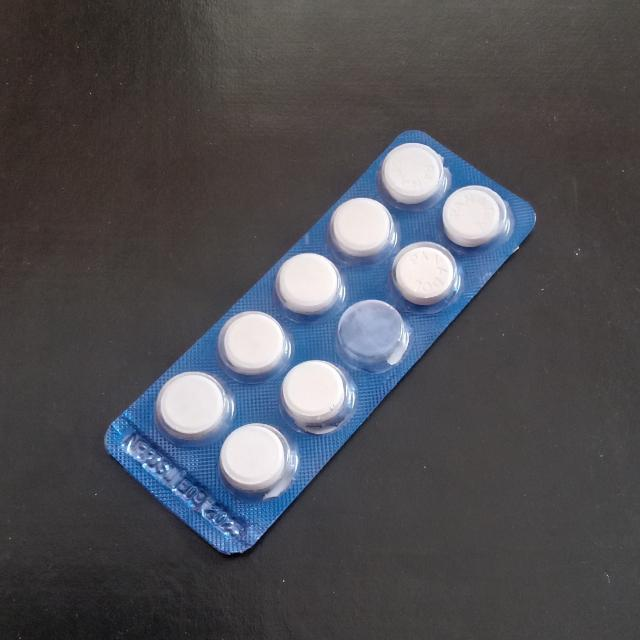defect: (336, 298, 409, 374)
